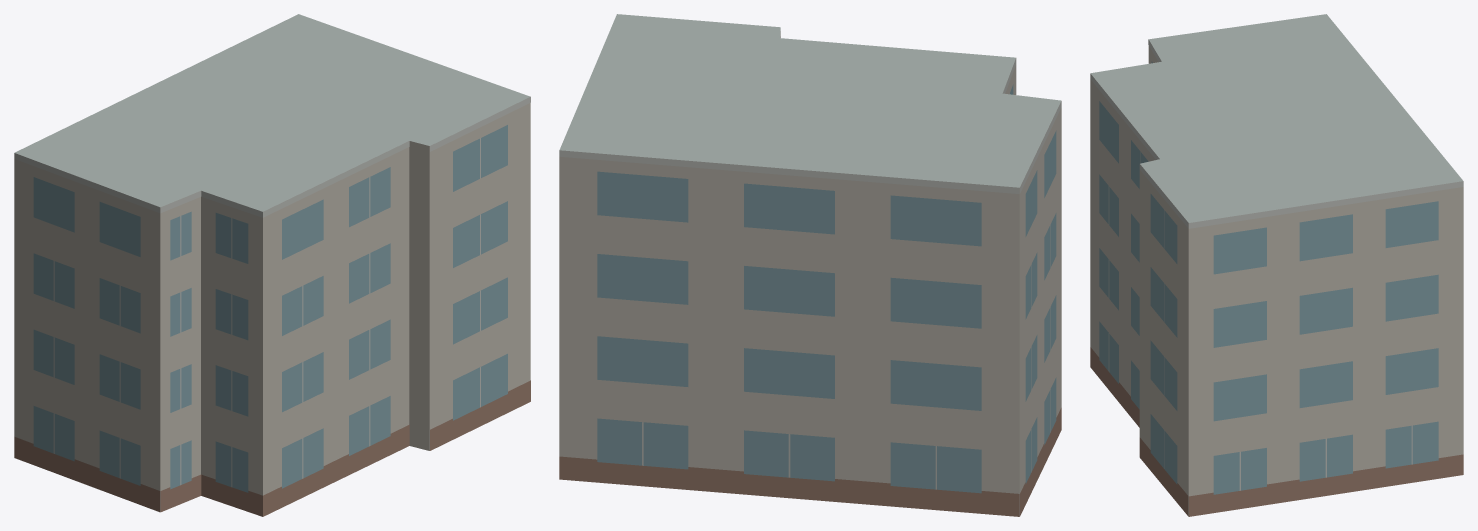
The model's file is survey-upis-32858240.glb.
3 renders of one model, left to right at view 1: azimuth 30°, elevation 25°; view 2: azimuth 150°, elevation 25°; view 3: azimuth 270°, elevation 25°, orthographic. The views are drawn at different scales.
Parts seen in each view (by area): view 1: survey-upis-32858240.tmp; view 2: survey-upis-32858240.tmp; view 3: survey-upis-32858240.tmp.
Boxes of the visible parts, <box> form: survey-upis-32858240.tmp: <box>14,14,530,516</box>; survey-upis-32858240.tmp: <box>559,14,1061,516</box>; survey-upis-32858240.tmp: <box>1090,14,1463,516</box>.
Size of the model in its own units: 18.94 by 12.4 by 14.29.
